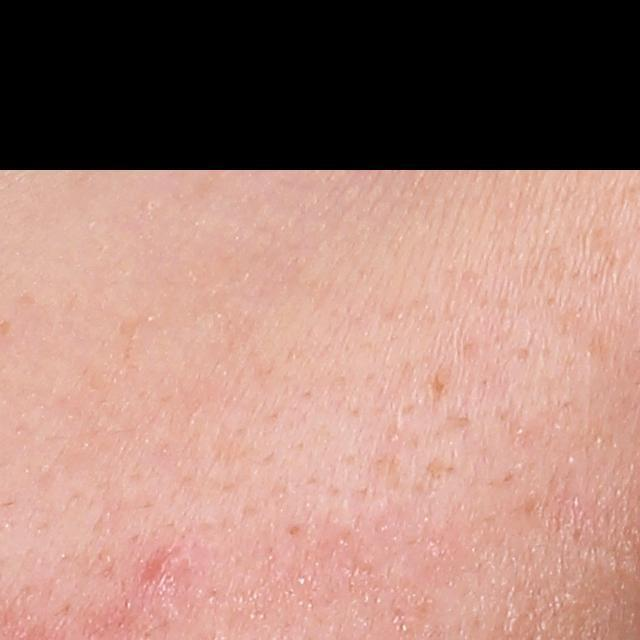melasma: (428, 365, 456, 401)
